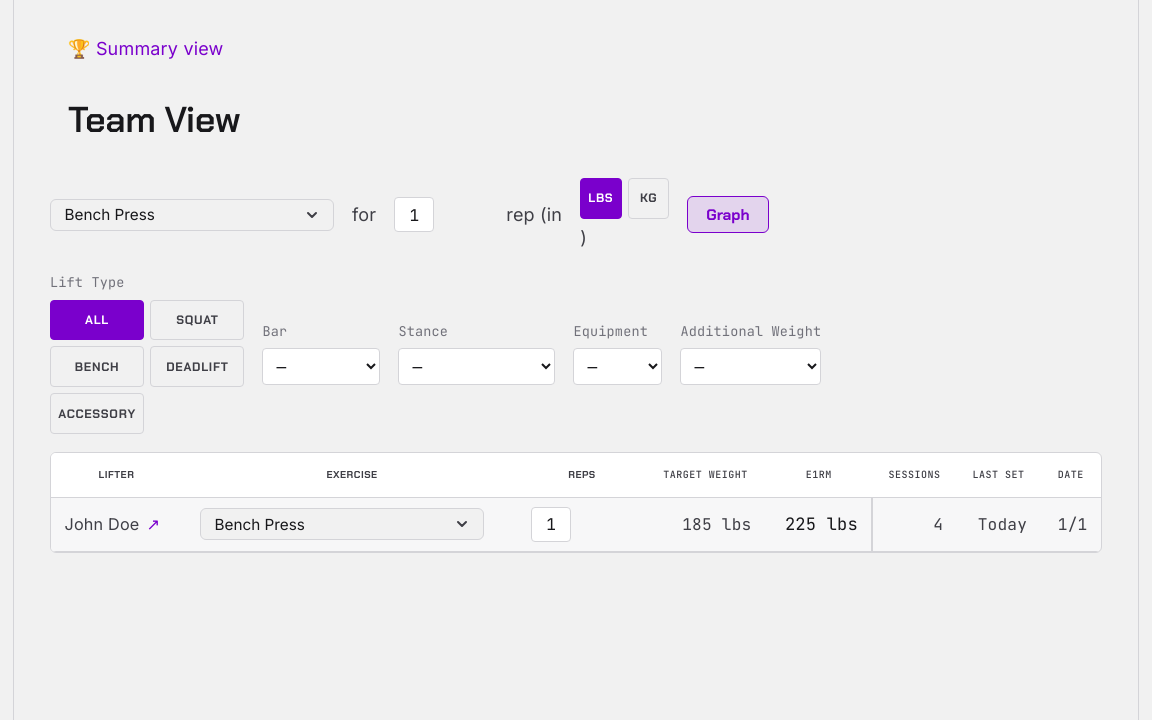
Scenario: TeamViewPage › the close button (✕) inside the chart closes it
The image size is (1152, 720).
# Click Graph button to open the chart
Click the button "Graph" at (728, 215), box [687, 196, 769, 233]
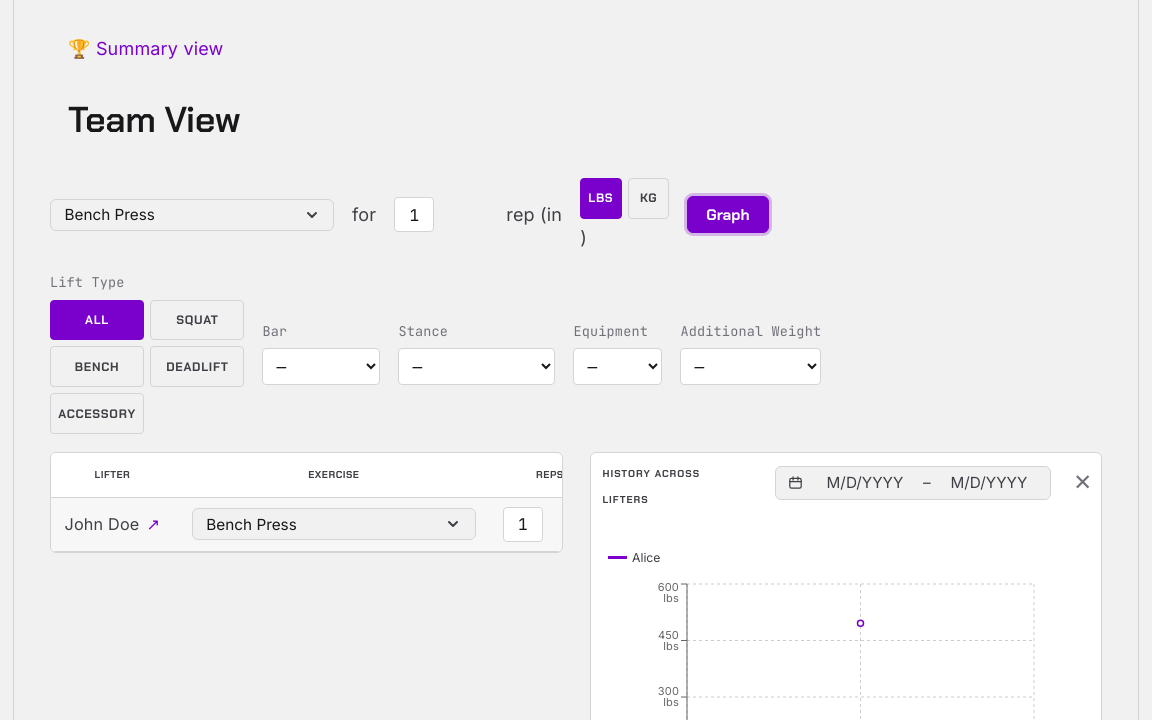
Check: the text "History Across Lifters" is shown, box [602, 467, 700, 506]
# Click the close button
Click the button named "Close chart" at (1083, 483), box [1064, 465, 1101, 501]
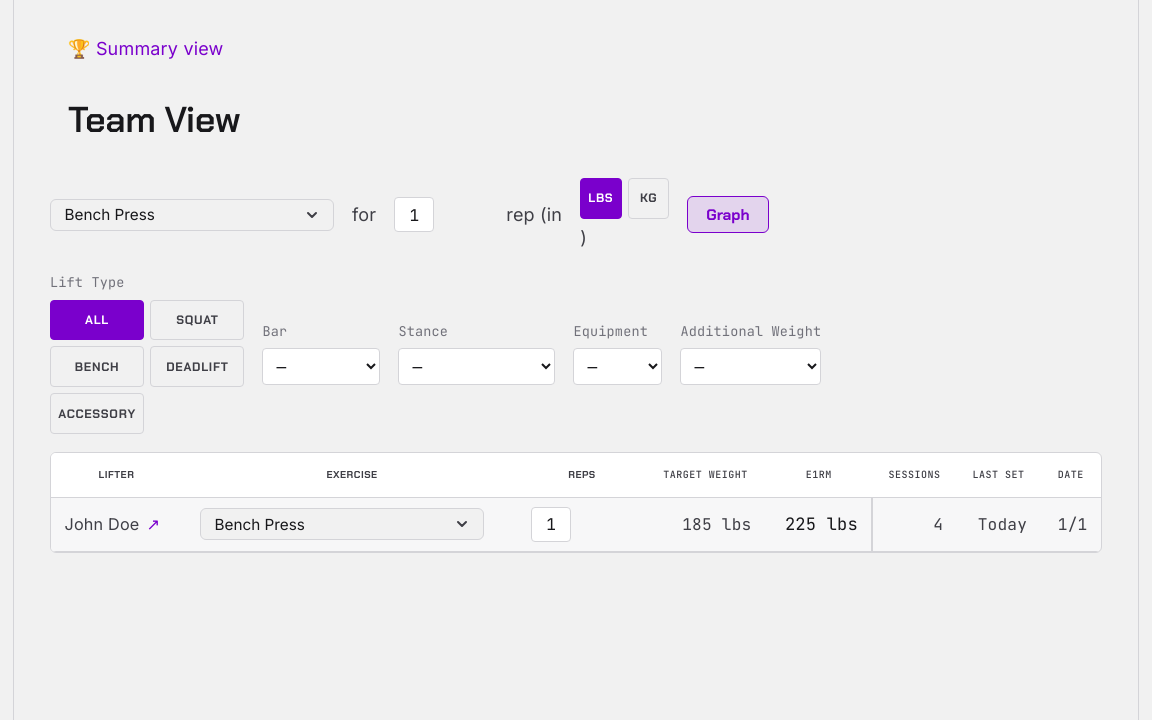
Check: the text "History Across Lifters" is gone
